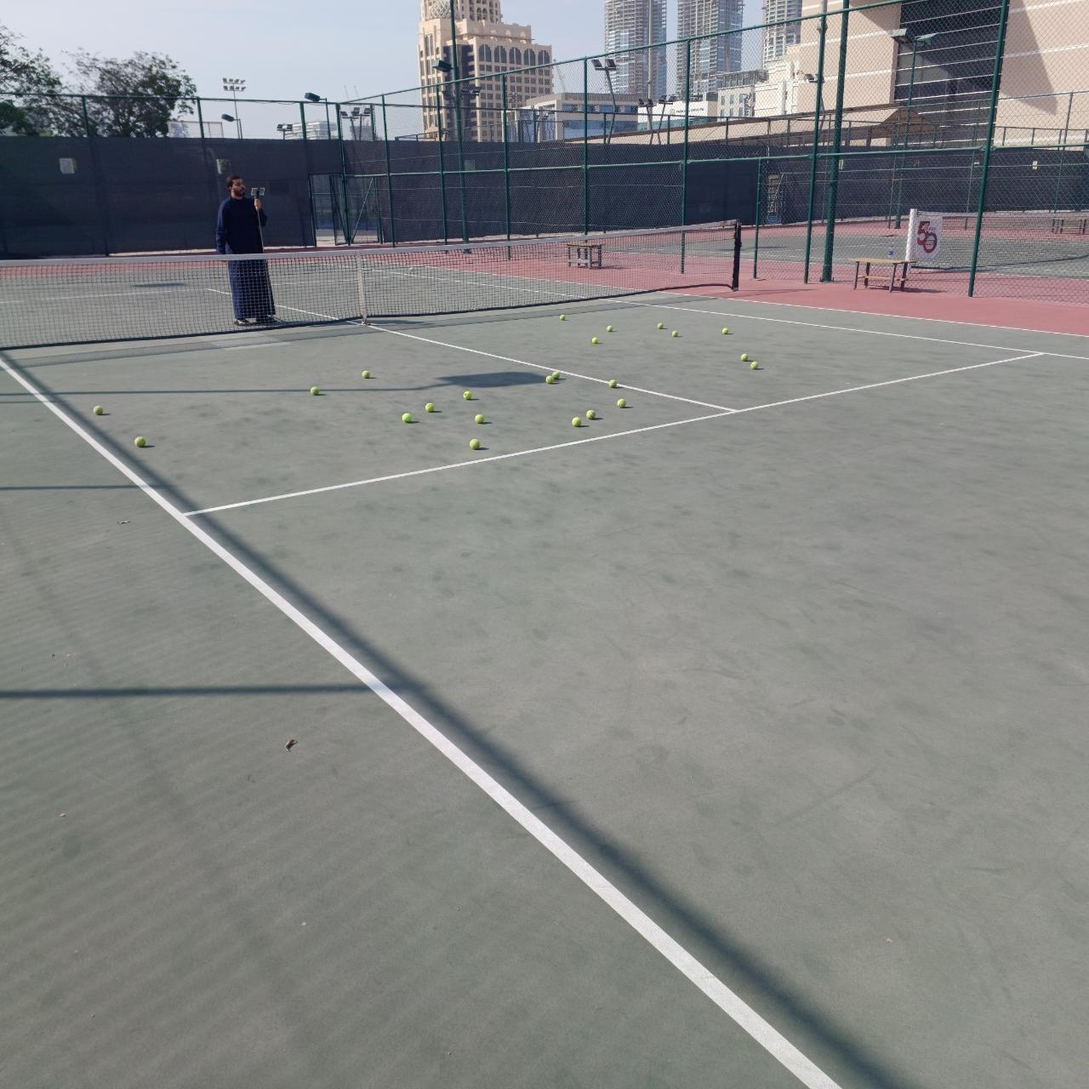tennis-ball: (134, 434, 146, 447), (91, 403, 104, 414), (469, 439, 481, 450), (309, 385, 321, 396), (571, 416, 582, 427), (586, 409, 596, 420), (360, 368, 370, 379), (616, 398, 626, 408), (425, 402, 435, 412), (402, 413, 412, 422), (462, 391, 472, 400), (475, 414, 484, 423), (608, 379, 617, 388), (751, 361, 759, 370), (741, 354, 749, 362), (546, 375, 554, 383), (552, 371, 560, 379), (591, 337, 599, 344), (606, 325, 613, 332), (672, 330, 678, 337), (722, 328, 729, 334), (657, 323, 663, 329), (560, 314, 566, 320)
